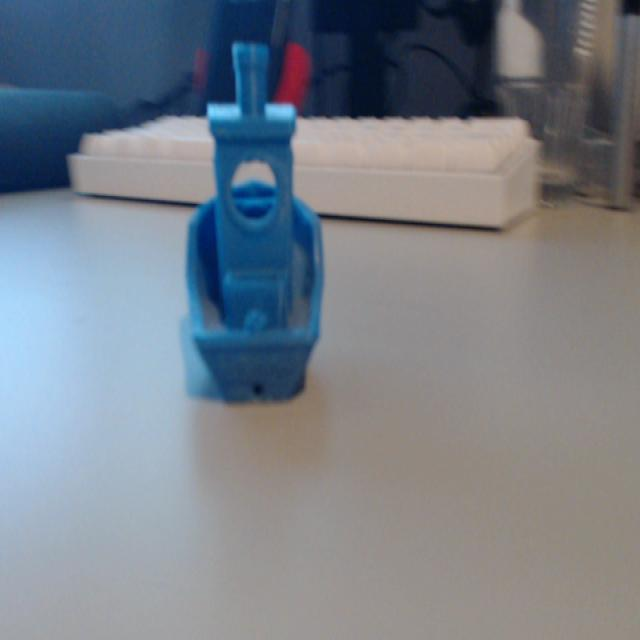benchy: (179, 39, 327, 405)
